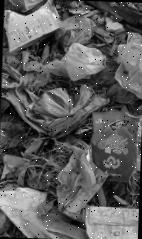general: (89, 110, 141, 184), (2, 0, 62, 57)
plastic: (113, 30, 142, 99)
